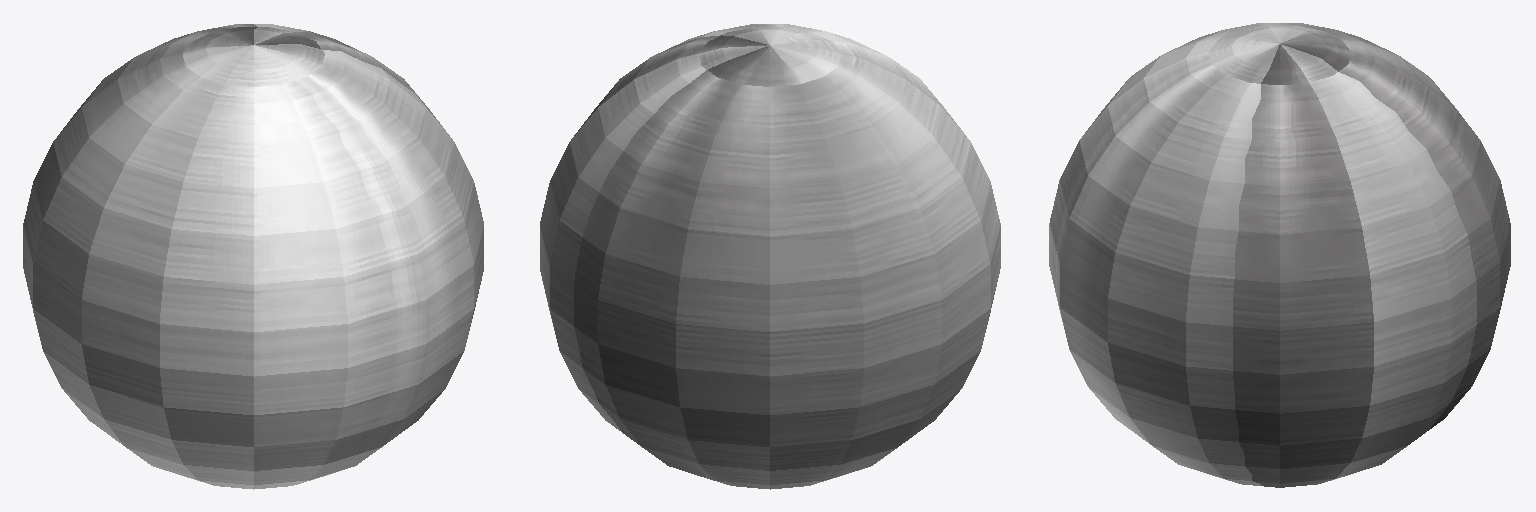
3 renders of one model, left to right at view 1: azimuth 30°, elevation 25°; view 2: azimuth 150°, elevation 25°; view 3: azimuth 270°, elevation 25°, orthographic.
Parts seen in each view (by area): view 1: Mesa_style.001; view 2: Mesa_style.001; view 3: Mesa_style.001.
Boxes of the visible parts, <box> form: Mesa_style.001: <box>23,24,483,489</box>; Mesa_style.001: <box>540,24,1000,489</box>; Mesa_style.001: <box>1049,23,1510,487</box>.
Bounding box in the file's own units: 1.98 × 2.02 × 2.
1 materials, 1 textured.